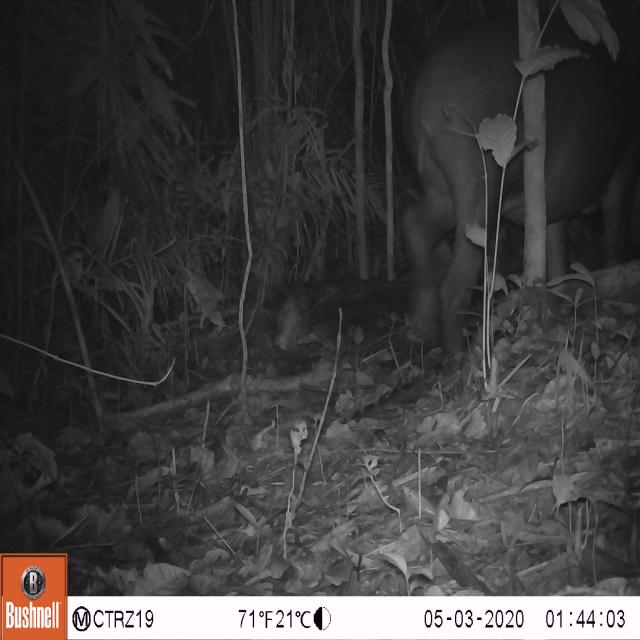Lowland Tapir: (370, 17, 640, 355)
